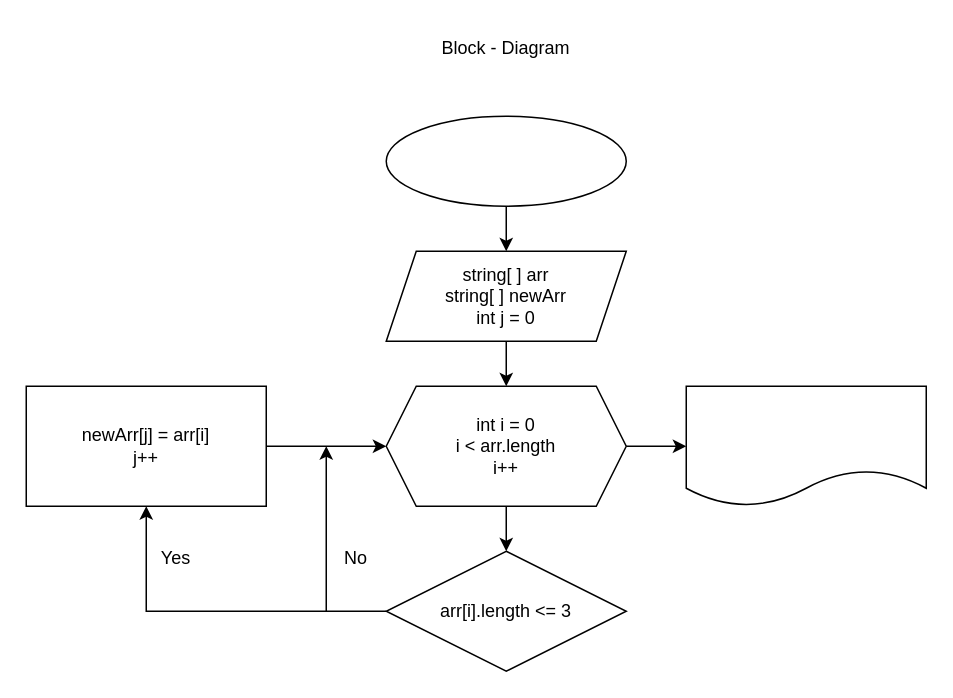
This 953x698 diagram has some shape labels left out. The centre of each missing label's shape, as x and y in pixels:
"Print newArr" goes at point 805,445.
"Start" goes at point 505,160.
